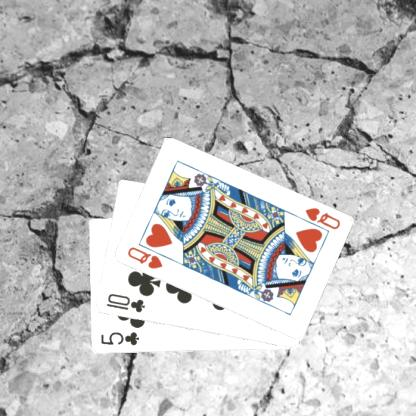10C: (103, 291, 146, 315)
5C: (98, 329, 140, 347)
QH: (294, 205, 341, 234), (124, 244, 164, 271)
